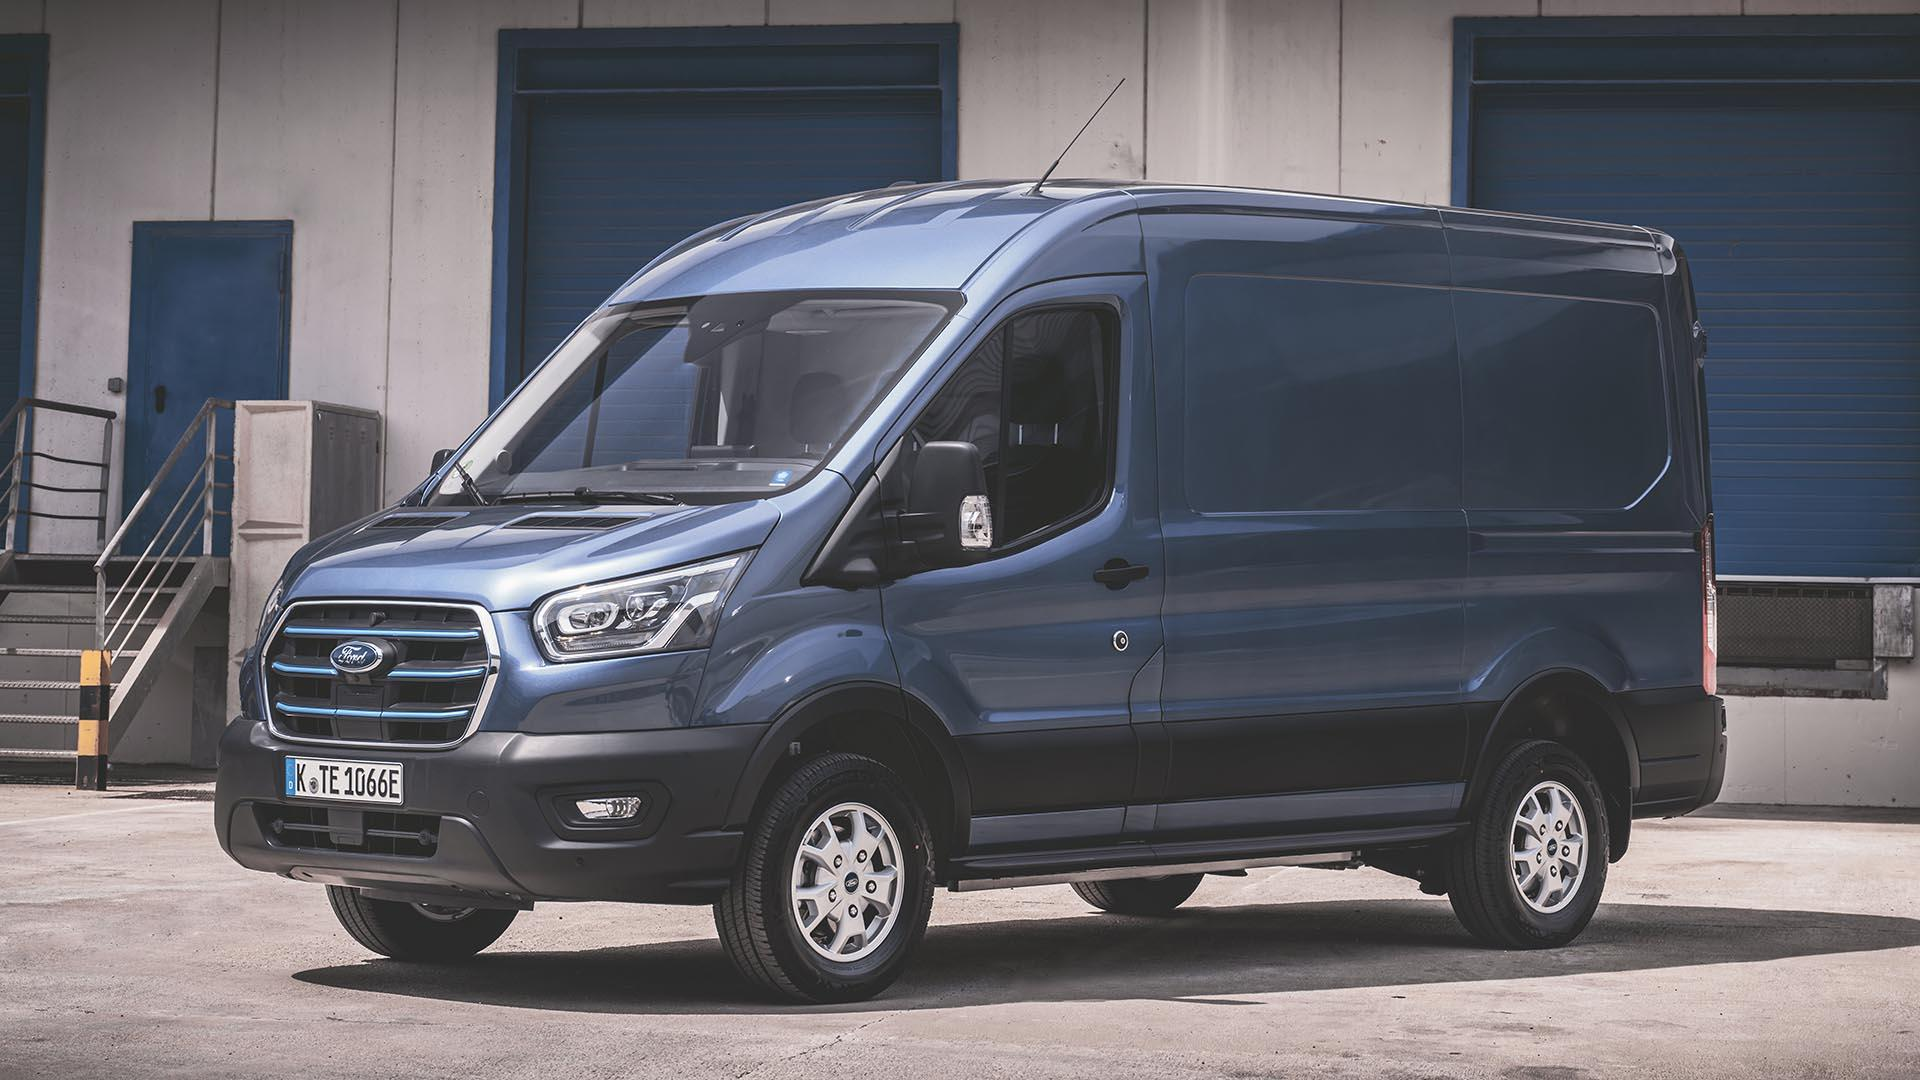van: (211, 179, 1729, 1005)
